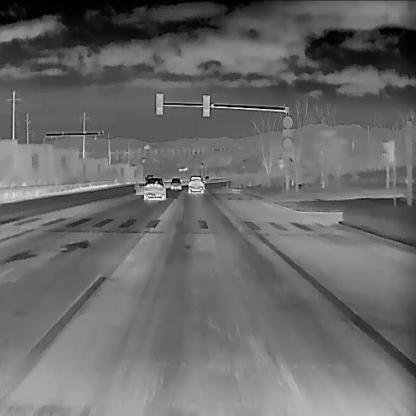car: (142, 176, 166, 198), (187, 175, 204, 193), (169, 177, 181, 189)
